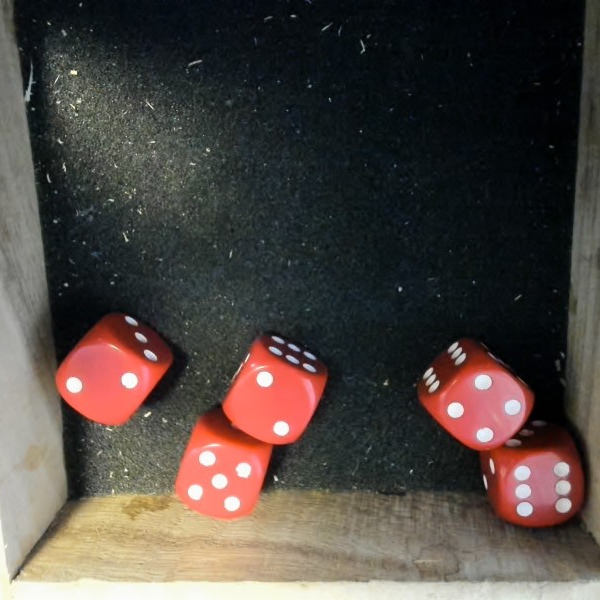red_die_pip2: (48, 305, 188, 448), (213, 326, 334, 454)
red_die_pip4: (402, 329, 544, 469)
red_die_pip5: (168, 419, 276, 526)
red_die_pip6: (484, 421, 587, 533)
